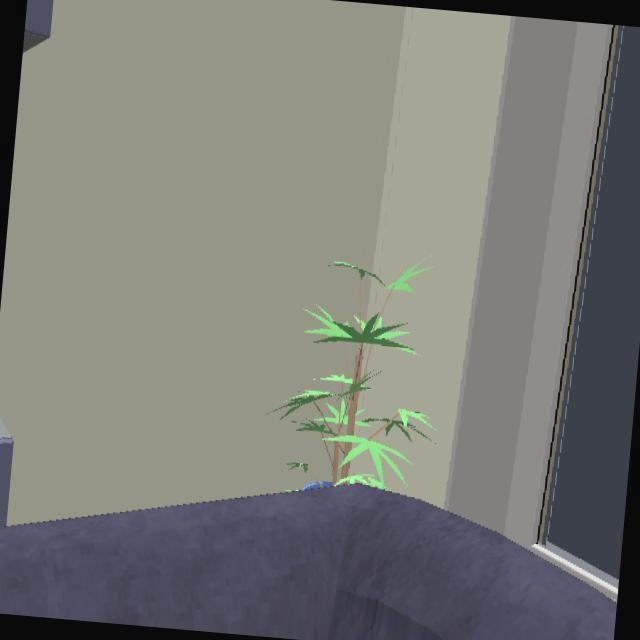sofa: (0, 485, 616, 640)
